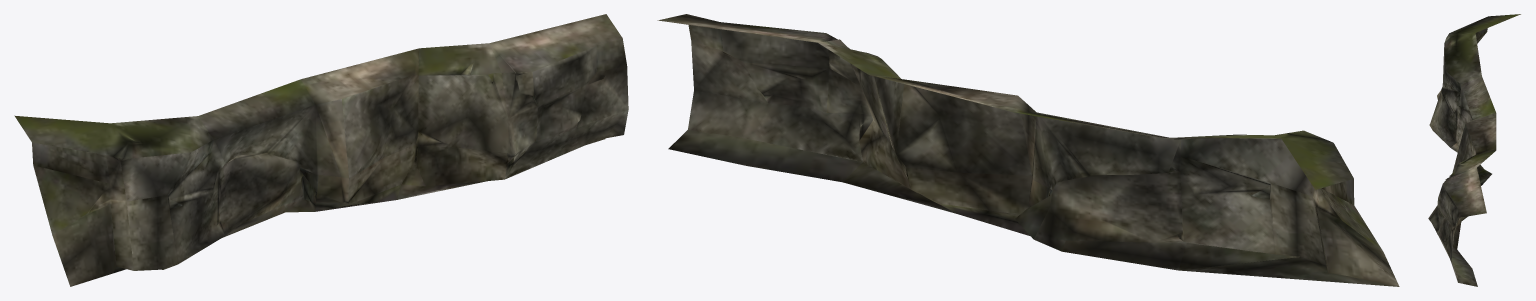
File: coastal_cliff_02.glb
The picture shows the model from 3 angles, left to right: view 1: azimuth 30°, elevation 25°; view 2: azimuth 150°, elevation 25°; view 3: azimuth 270°, elevation 25°; orthographic projection. The views are drawn at different scales.
Parts seen in each view (by area): view 1: coastal_cliff_02_LOD0; view 2: coastal_cliff_02_LOD0; view 3: coastal_cliff_02_LOD0.
Part boxes in pixels (box(x1,y1,x2,y2)): coastal_cliff_02_LOD0: box(14, 14, 628, 286); coastal_cliff_02_LOD0: box(657, 14, 1399, 286); coastal_cliff_02_LOD0: box(1428, 14, 1520, 286).
Bounding box in the file's own units: 40.81 × 9.29 × 8.47.
Materials: 1 (1 with a texture image).
